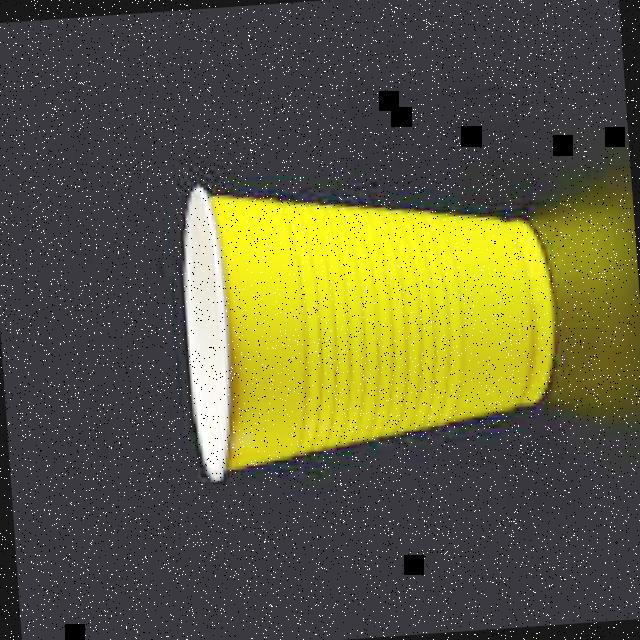plastic_cup: (178, 166, 570, 477)
